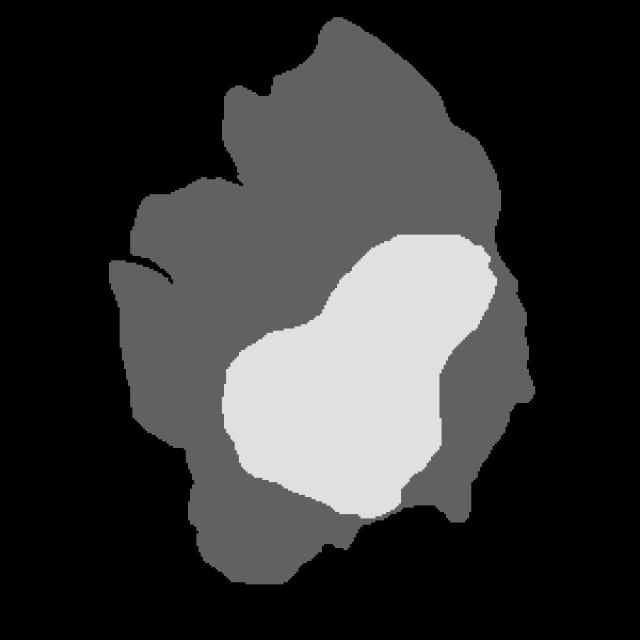WBC: (84, 15, 559, 595)
